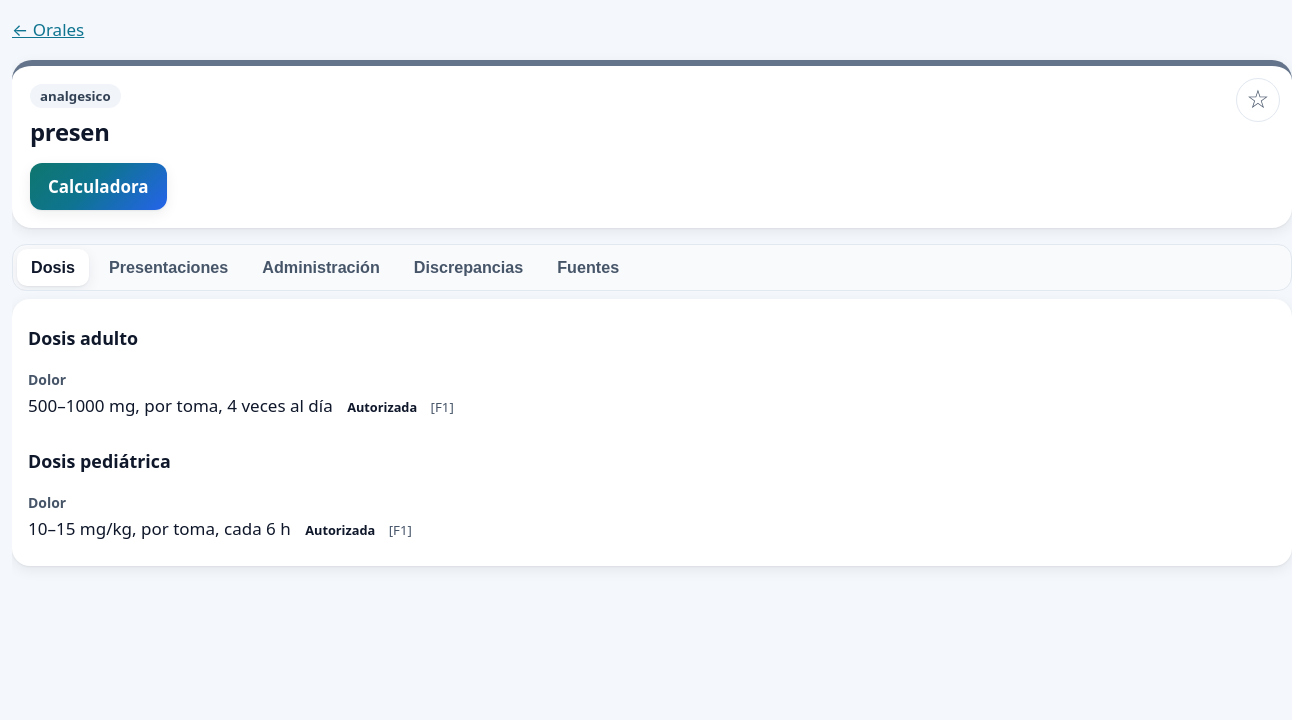
Test: FichaOral › Presentaciones muestra partible, liberación prolongada y registro en Chile
Click the tab "Presentaciones" at x=169, y=268, box [95,249,242,286]
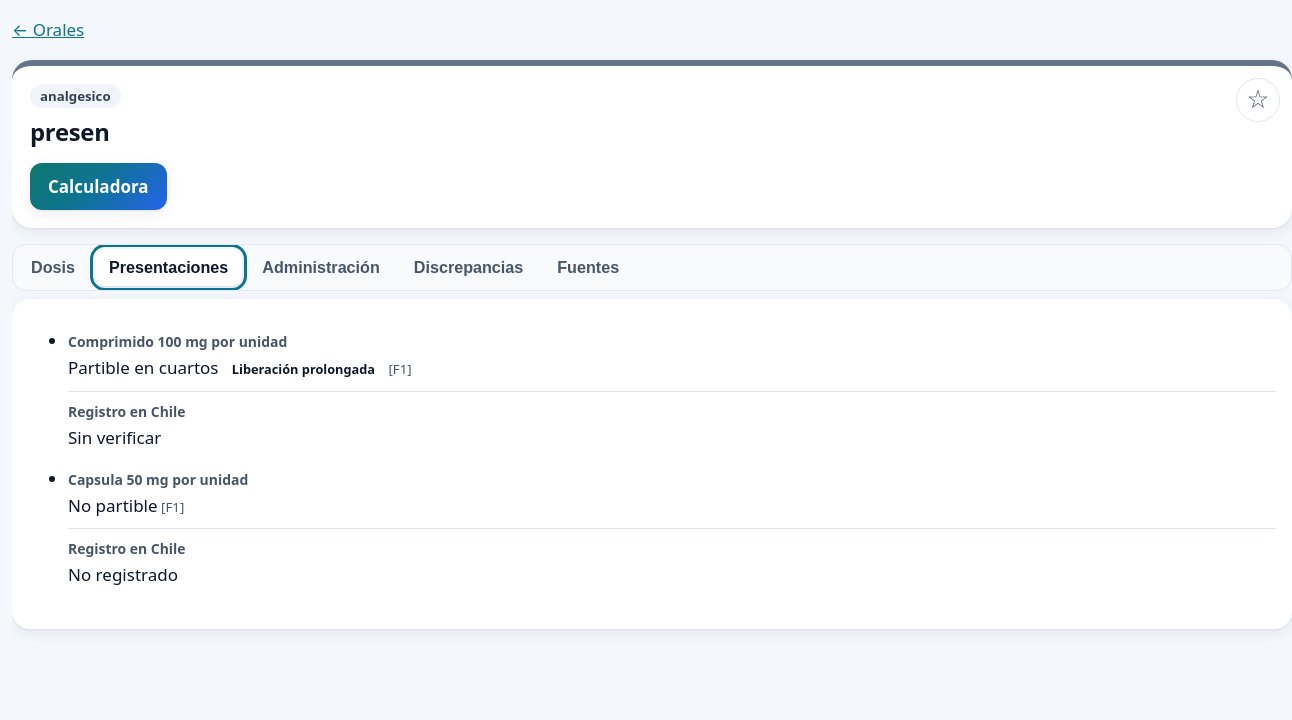
Result: the text "Liberación prolongada" is shown at [218,357,385,381]
Result: the text "Partible en cuartos Liberación prolongada [F1]" is shown at [68,356,412,379]
Result: the text "Sin verificar" is shown at [68,426,161,448]
